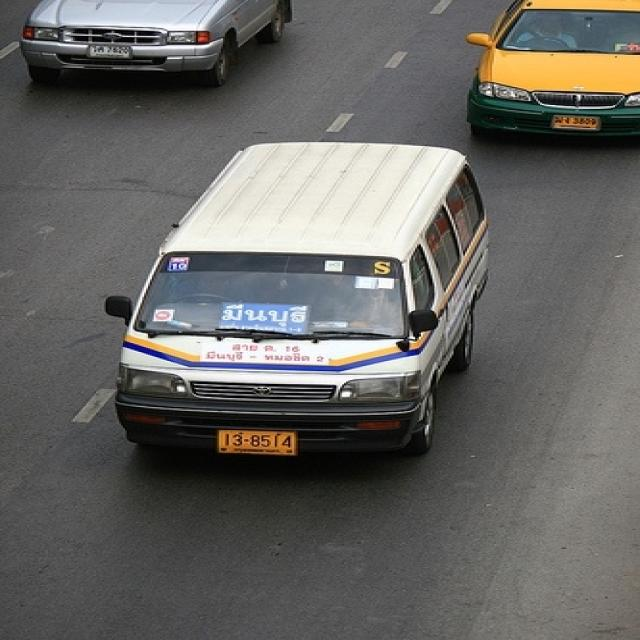plate: (217, 429, 300, 457), (550, 114, 604, 130), (88, 44, 136, 58)
